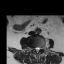CCS_normal: (36, 45, 38, 55)
LFS_stenosis: (40, 45, 42, 51)
LLS_normal: (38, 45, 40, 51)
RFS_severe_stenosis: (32, 45, 34, 51)
RLS_normal: (34, 45, 36, 51)
